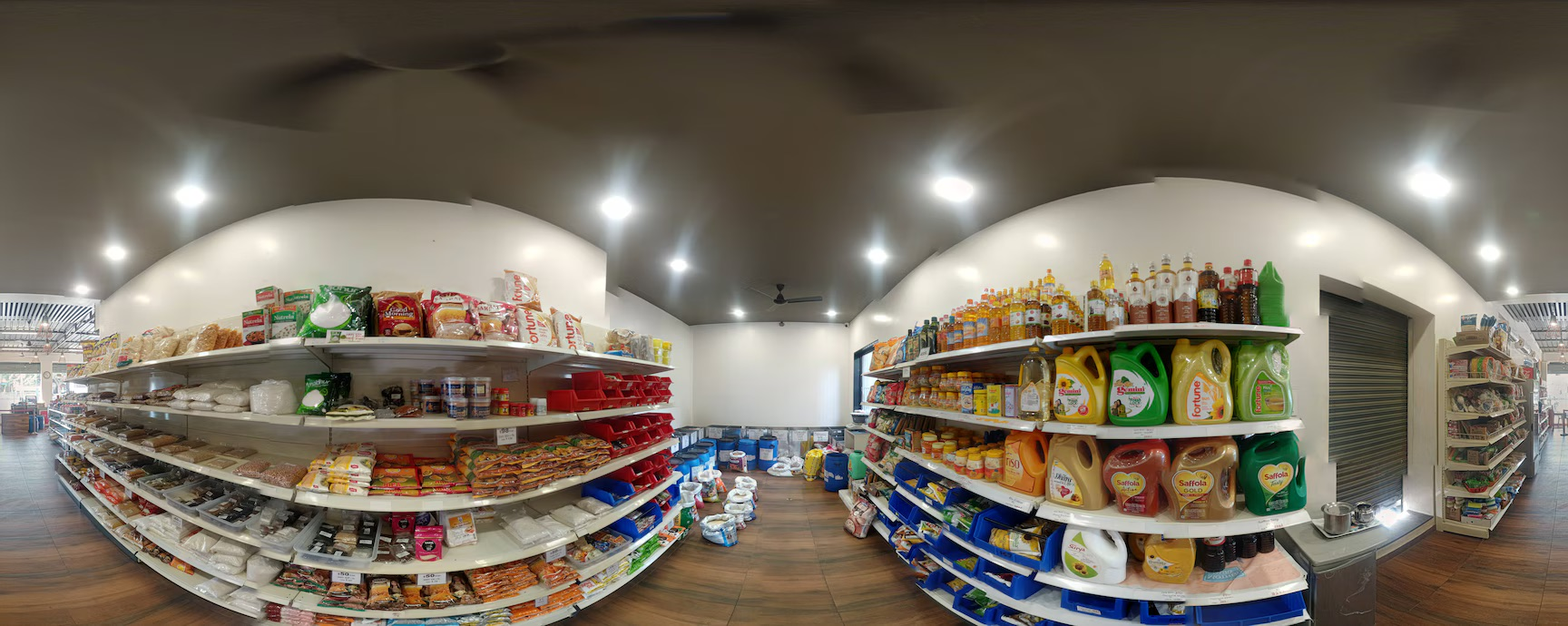saffola: (1167, 457, 1219, 508)
